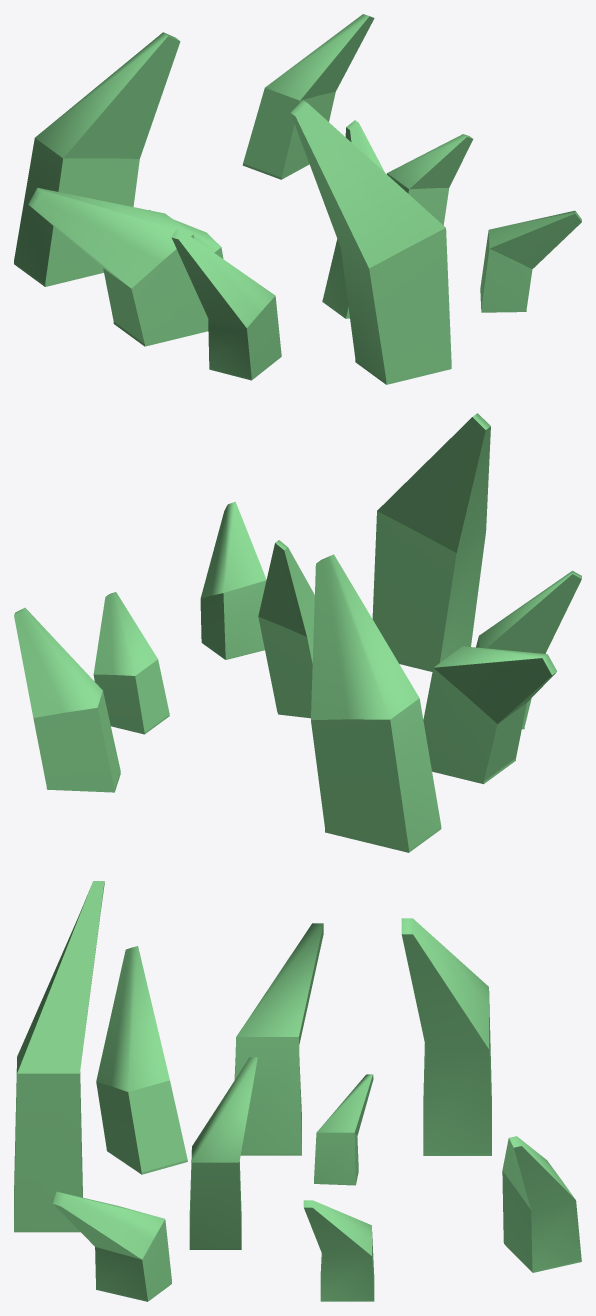
3 views of the same model, one above another, from view 1: azimuth 30°, elevation 25°; view 2: azimuth 150°, elevation 25°; view 3: azimuth 270°, elevation 25° (orthographic). The views are drawn at different scales.
Visible parts, largest first — view 1: Cube, Subdiv, Subdiv 4, Subdiv 7, Subdiv 6, Subdiv 8, Subdiv 3, Subdiv 2, Subdiv 5; view 2: Subdiv, Cube, Subdiv 4, Subdiv 6, Subdiv 2, Subdiv 8, Subdiv 3, Subdiv 7; view 3: Cube, Subdiv, Subdiv 7, Subdiv 4, Subdiv 2, Subdiv 6, Subdiv 8, Subdiv 3, Subdiv 5.
Part boxes in pixels (x1,y1,x2,y2): Cube: (290,100,451,384); Subdiv: (14,32,180,286); Subdiv 4: (28,187,208,346); Subdiv 7: (171,229,281,380); Subdiv 6: (242,14,374,179); Subdiv 8: (480,210,581,312); Subdiv 3: (387,134,473,225); Subdiv 2: (322,120,384,318); Subdiv 5: (149,210,223,258); Subdiv: (311,554,441,852); Cube: (372,413,490,671); Subdiv 4: (423,646,556,784); Subdiv 6: (14,607,120,792); Subdiv 2: (258,540,314,718); Subdiv 8: (200,501,266,659); Subdiv 3: (93,592,169,734); Subdiv 7: (476,571,581,729); Cube: (14,881,104,1232); Subdiv: (401,918,491,1155); Subdiv 7: (96,946,187,1174); Subdiv 4: (234,923,323,1155); Subdiv 2: (189,1057,257,1249); Subdiv 6: (502,1136,581,1272); Subdiv 8: (53,1191,171,1301); Subdiv 3: (303,1200,374,1301); Subdiv 5: (314,1074,373,1185).
Bounding box in the file's own units: 0.9853 × 0.5881 × 1.
